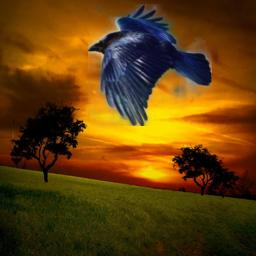Crow: (88, 4, 212, 126)
